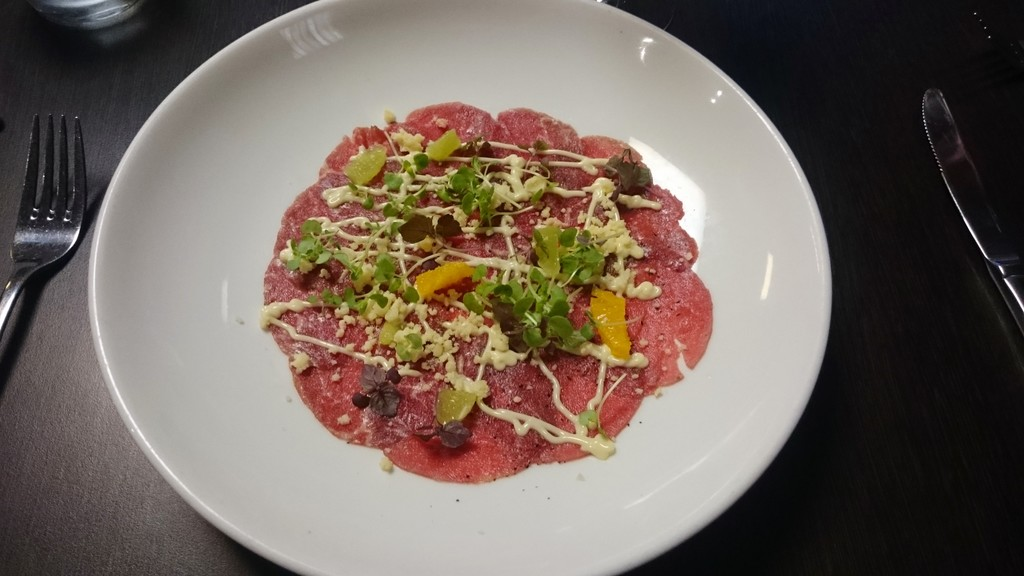plate: (87, 0, 831, 575)
